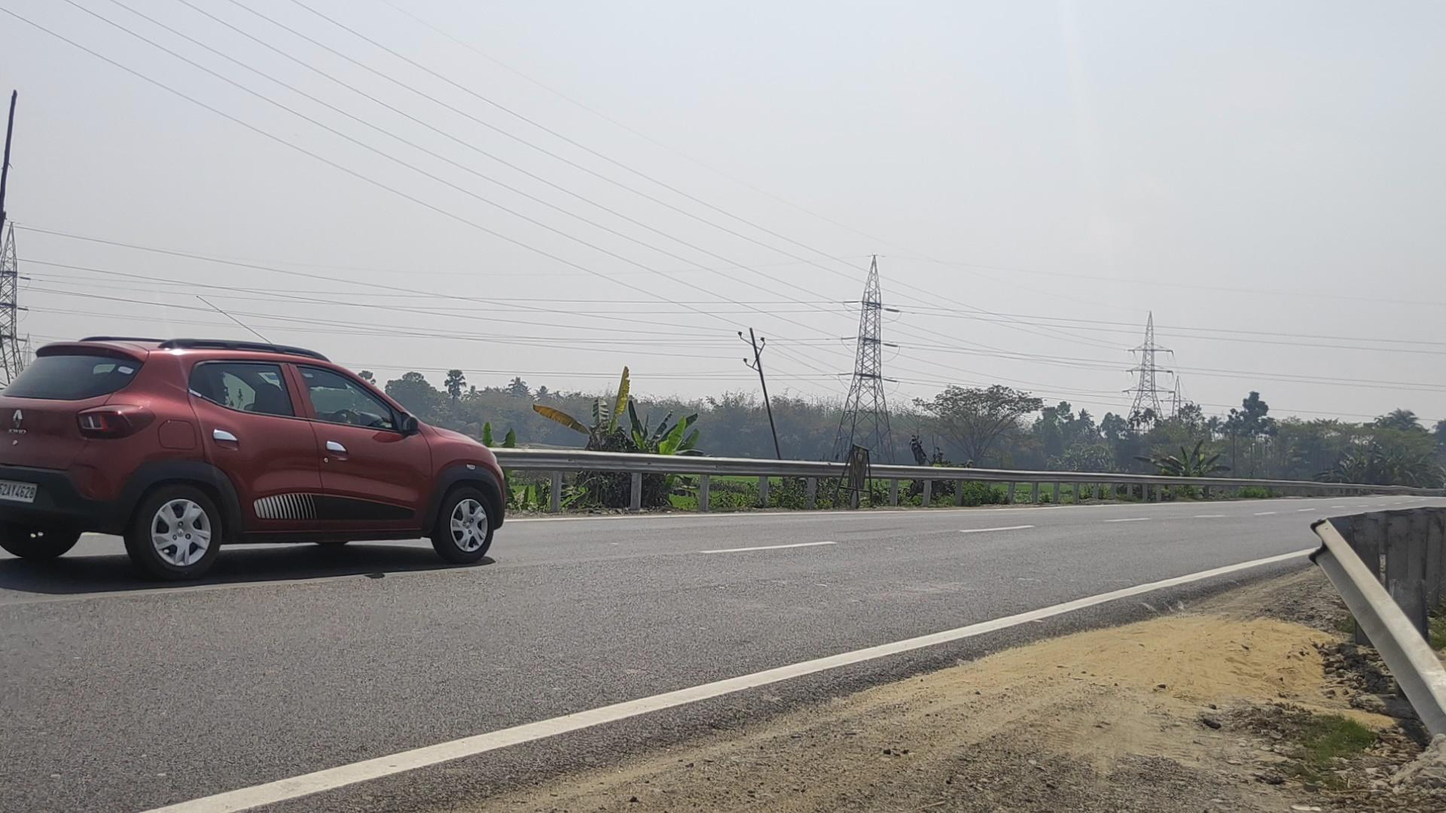car: (1, 336, 508, 584)
